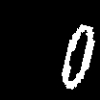chain: (62, 25, 94, 88)
